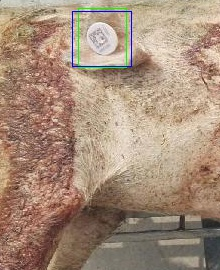text: (78, 8, 126, 67)
